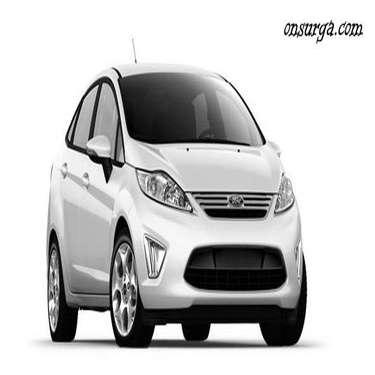car: (27, 46, 314, 354)
